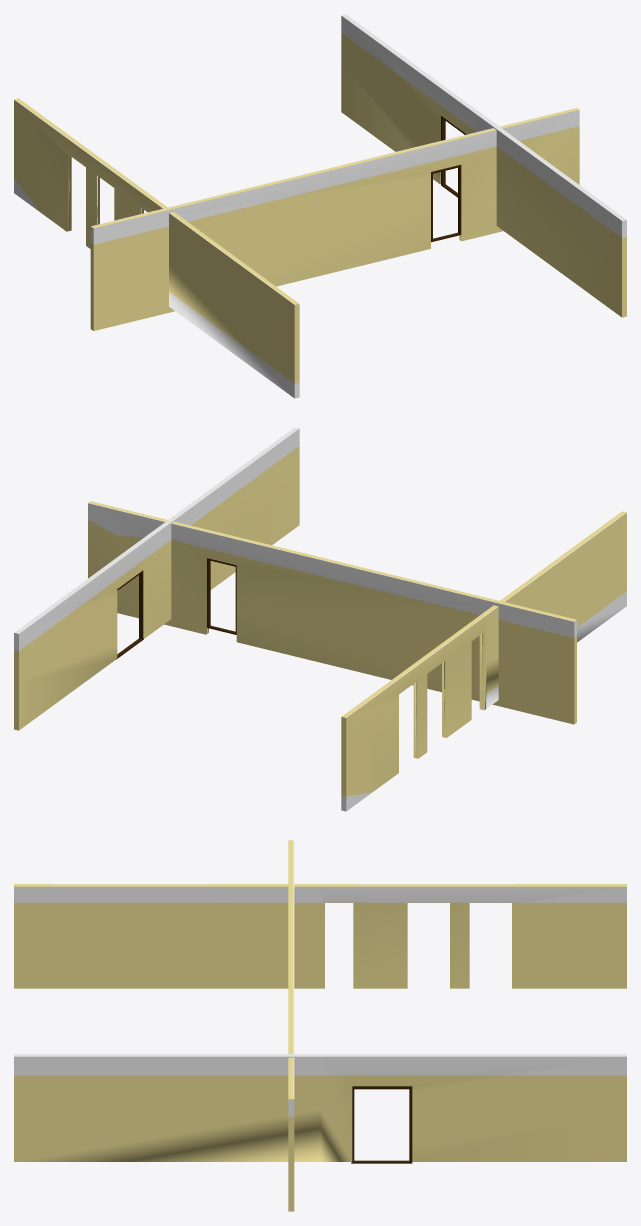
Rendered from All.fbx.
3 renders of one model, top to bottom at view 1: azimuth 30°, elevation 25°; view 2: azimuth 150°, elevation 25°; view 3: azimuth 270°, elevation 25°, orthographic. The views are drawn at different scales.
Visible parts, largest first — view 1: Wall__1_, Wall__3_, Wall__2_, Cube.002; view 2: Wall__1_, Wall__3_, Wall__2_, Cube.002; view 3: Wall__3_, Wall__2_, Wall__1_, Cube.
Boxes of the visible parts, x1,y1,x2,y2 form: Wall__1_: (90,108,579,330); Wall__3_: (341,14,626,317); Wall__2_: (14,98,299,398); Cube.002: (431,165,461,242); Wall__1_: (88,501,576,724); Wall__3_: (14,427,299,730); Wall__2_: (341,511,626,811); Cube.002: (207,558,236,634); Wall__3_: (14,1054,626,1161); Wall__2_: (14,884,626,988); Wall__1_: (288,840,294,1211); Cube: (351,1086,412,1163).
Bounding box in the file's own units: 10000 × 2039 × 10000.
3 materials, 1 textured.
